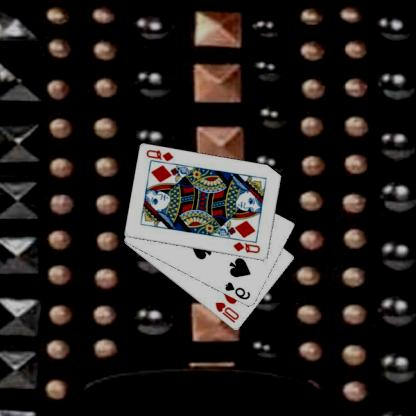10H: (214, 299, 242, 324)
6S: (224, 279, 254, 301)
QD: (232, 239, 264, 255), (145, 147, 177, 163)
